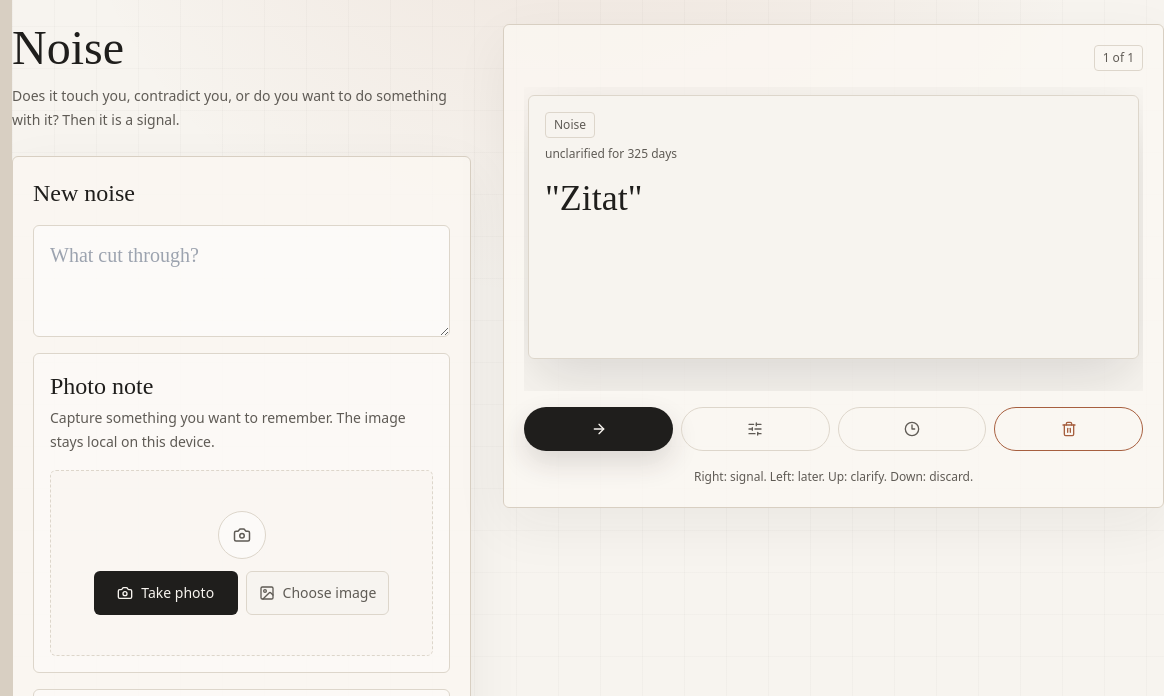
Test: InboxPage › Details › öffnet „Mehr Details“ automatisch, wenn Jahr schon einen Wert hat
Check: the text "\"Zitat\"" is shown, box [545,178,643,218]
Click the button named "Clarify": (755, 429) [681,407,830,451]
(page scrolled)
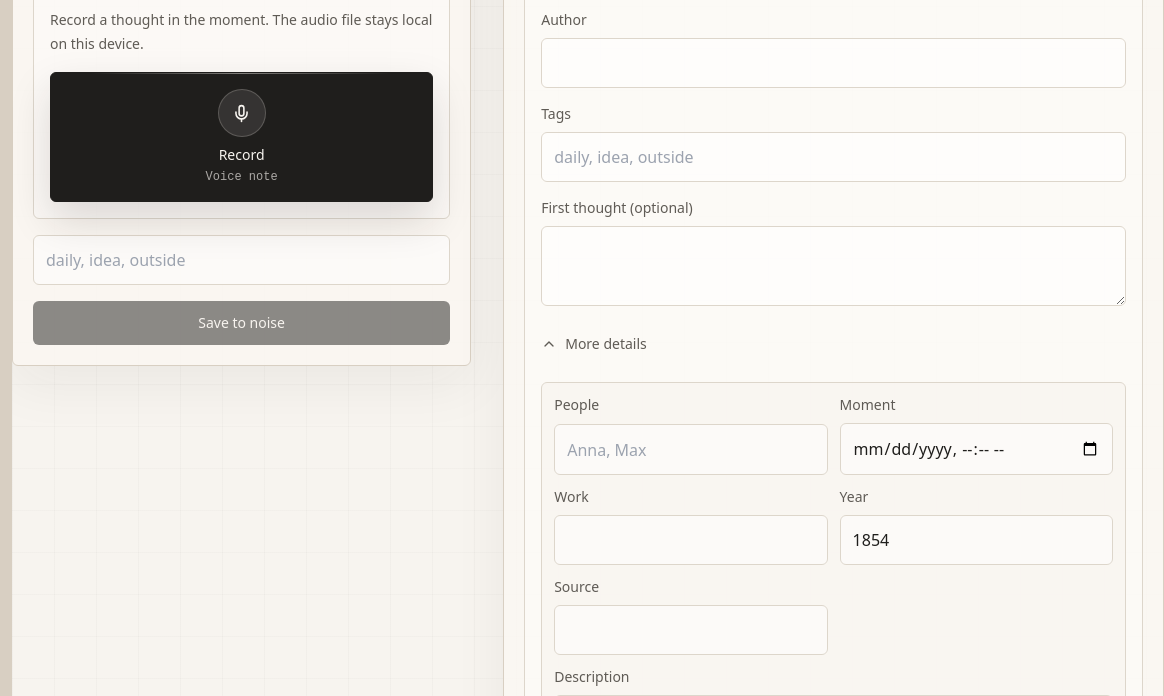
Check: the field labelled "Year" holds "1854", box [840,515,1113,565]
